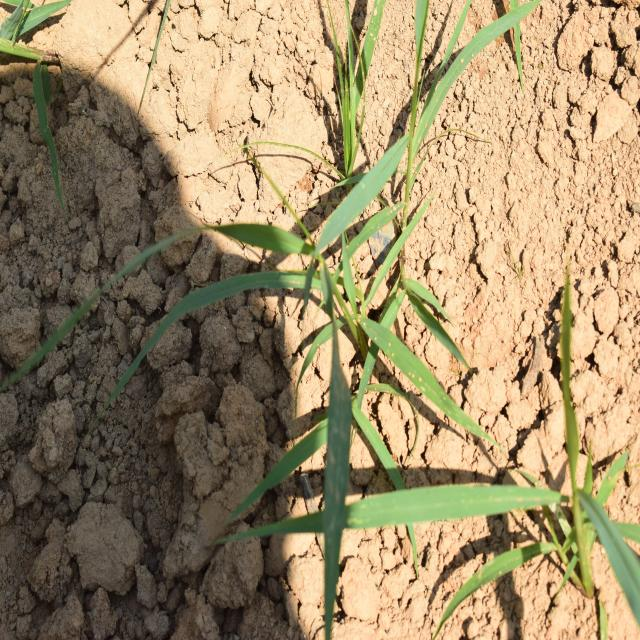green_foxtail: (139, 166, 408, 468), (326, 417, 639, 619)
